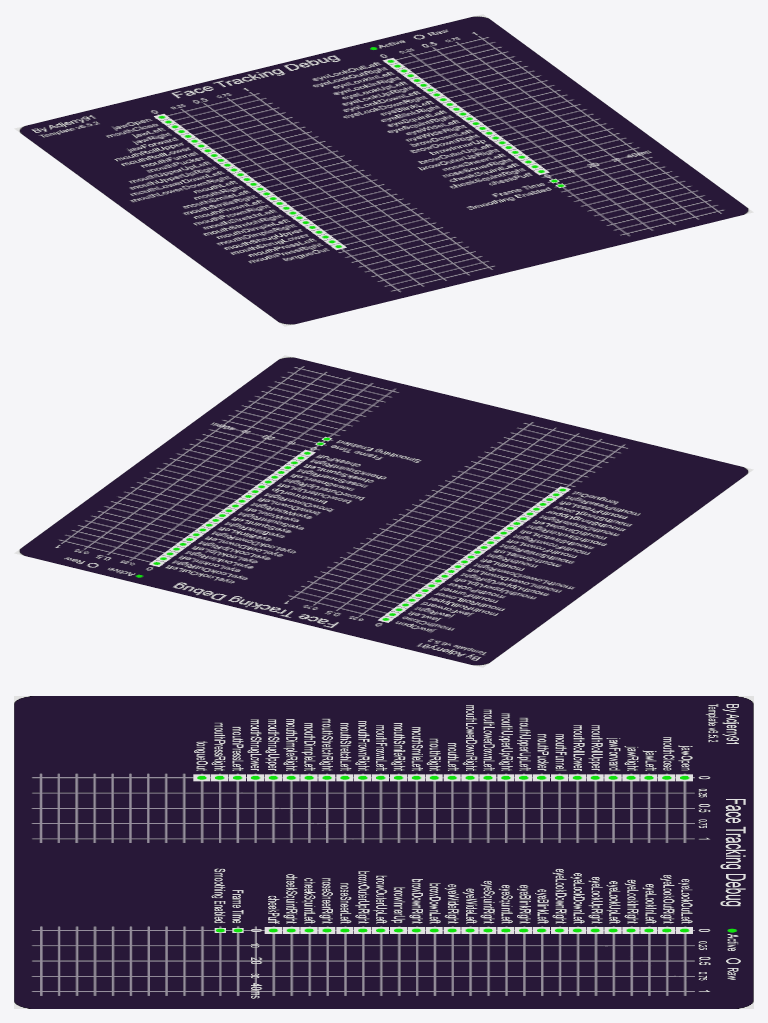
Rendered from FT_ARkit_Debug.fbx.
3 views of the same model, one above another, from view 1: azimuth 30°, elevation 25°; view 2: azimuth 150°, elevation 25°; view 3: azimuth 270°, elevation 25° (orthographic). The views are drawn at different scales.
Visible parts, largest first — view 1: Debug; view 2: Debug; view 3: Debug.
Boxes of the visible parts, bbox=[...] form: Debug: bbox=[14, 14, 753, 326]; Debug: bbox=[14, 355, 753, 667]; Debug: bbox=[14, 696, 753, 1008].
Bounding box in the file's own units: 0.75 × 4.67e-07 × 0.75.
